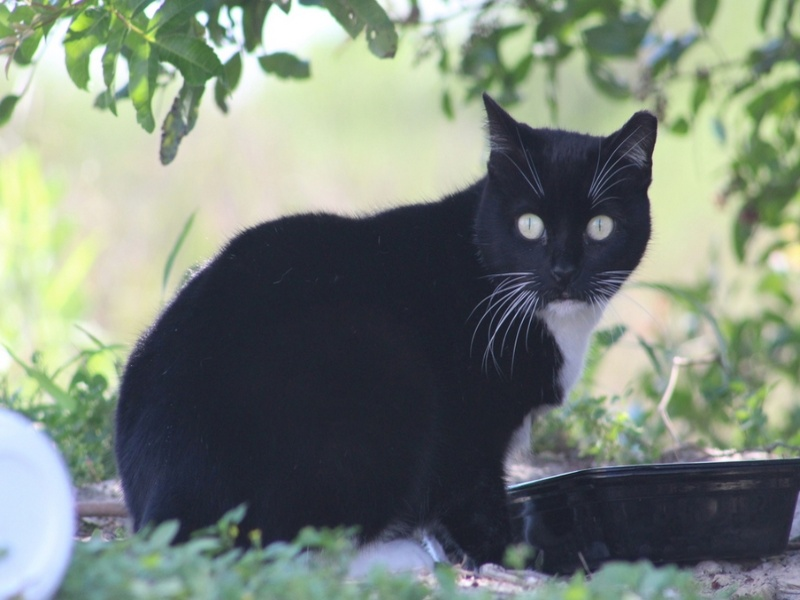cat: (108, 86, 659, 583)
